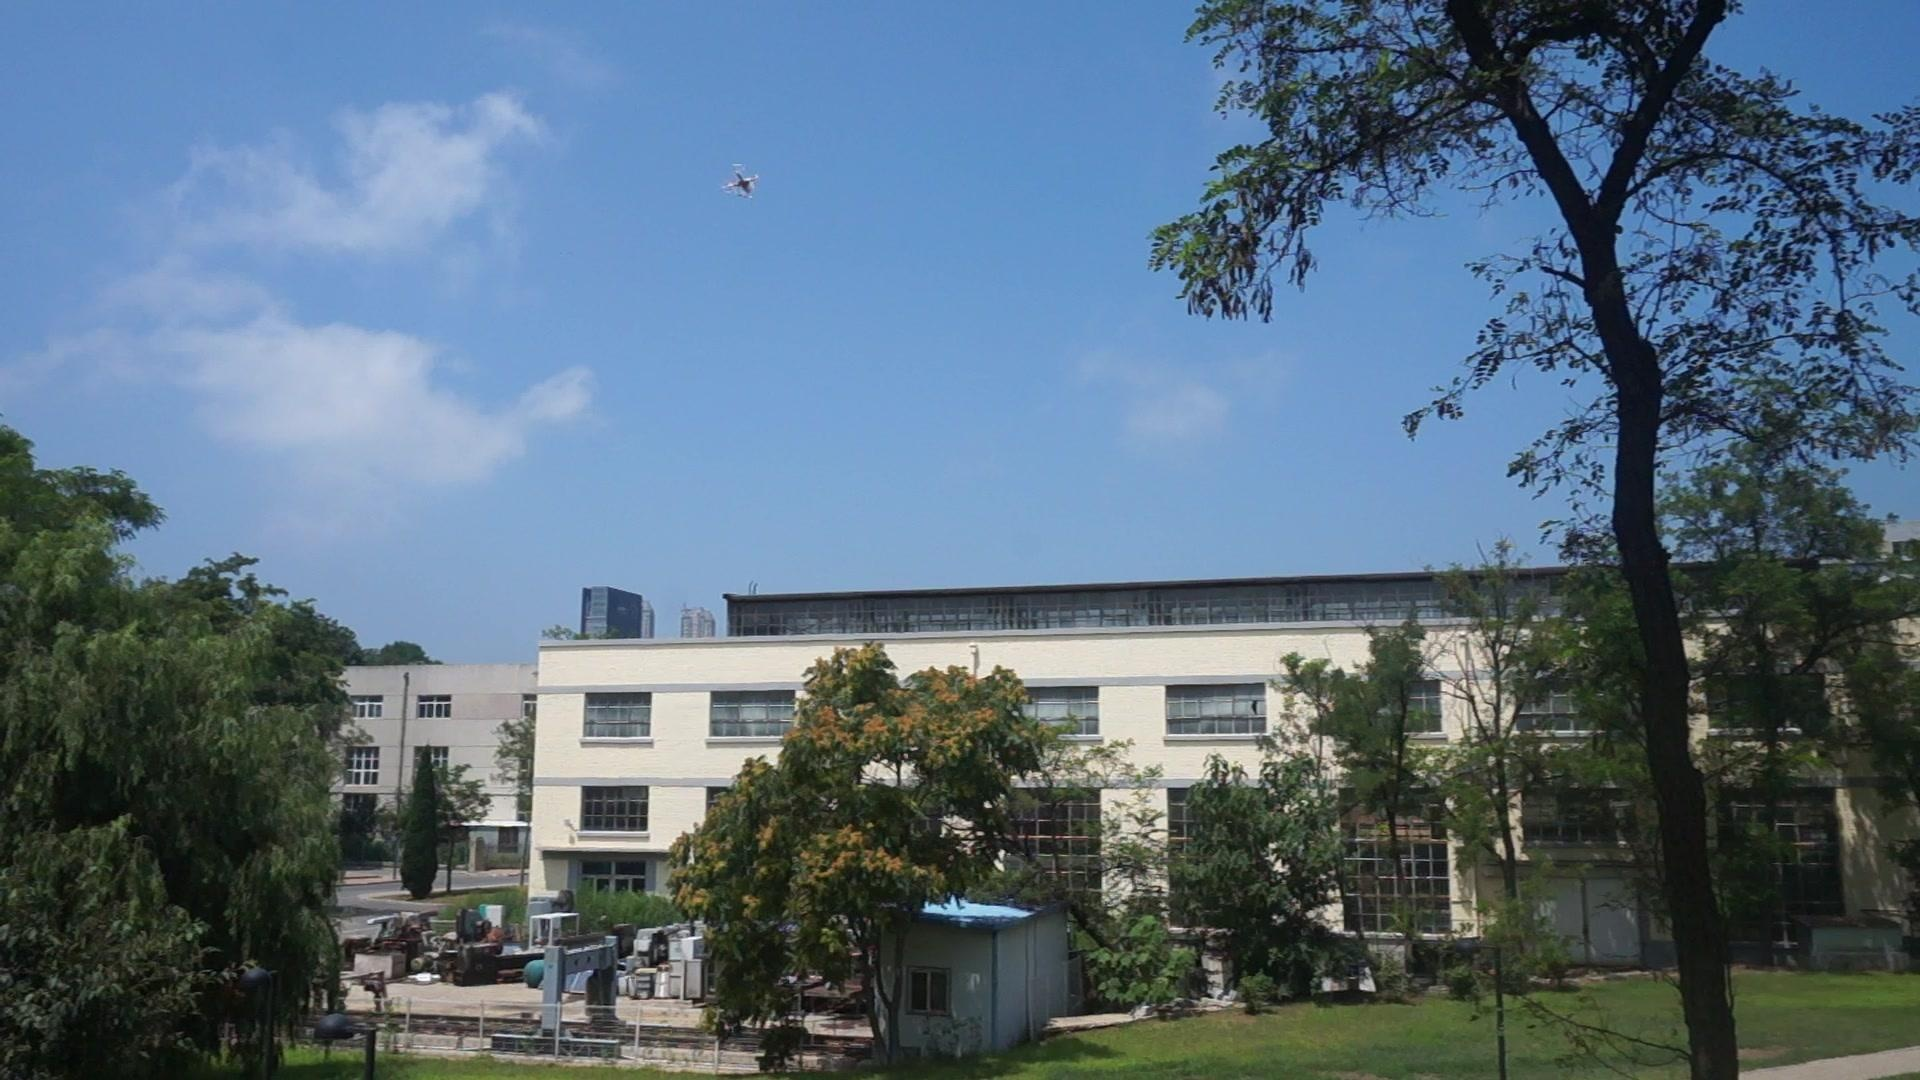UAV: (721, 164, 760, 200)
